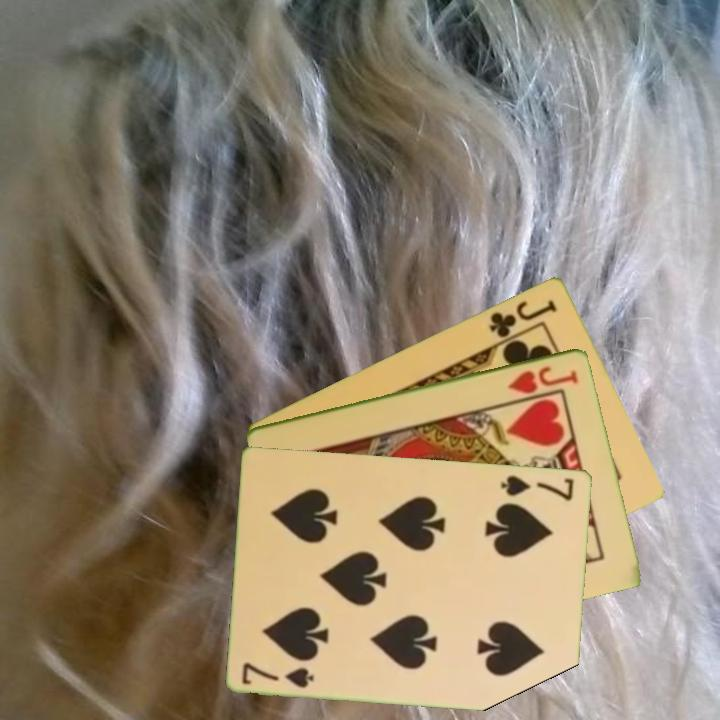7s: (497, 471, 577, 503), (239, 659, 318, 690)
Jc: (485, 295, 560, 341)
Jh: (504, 362, 581, 396)
